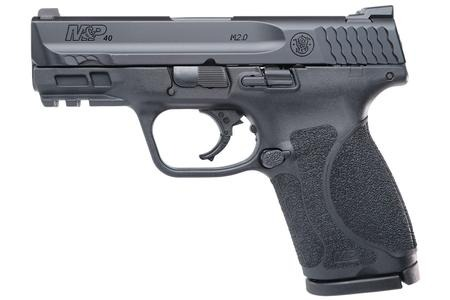gun: (26, 5, 429, 299)
